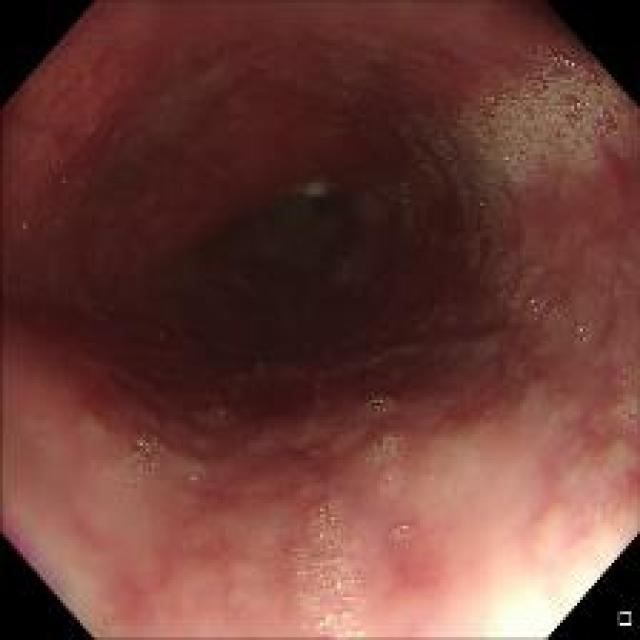bubbles: (429, 52, 620, 186), (282, 509, 379, 632), (505, 268, 591, 358), (454, 186, 509, 276), (351, 422, 406, 502), (111, 424, 172, 492), (605, 389, 640, 432), (334, 50, 368, 91), (325, 90, 351, 131), (391, 515, 418, 544), (614, 361, 640, 389), (209, 401, 235, 426), (330, 432, 355, 454), (370, 399, 394, 414), (184, 468, 201, 485), (611, 281, 625, 296)
color misalignment: (290, 511, 361, 631), (131, 434, 160, 466), (372, 431, 400, 459), (524, 294, 539, 316)
contrast: (175, 164, 408, 344)
saturation: (456, 535, 620, 631)
specularity: (315, 618, 332, 629), (560, 58, 574, 70), (528, 296, 536, 305)
